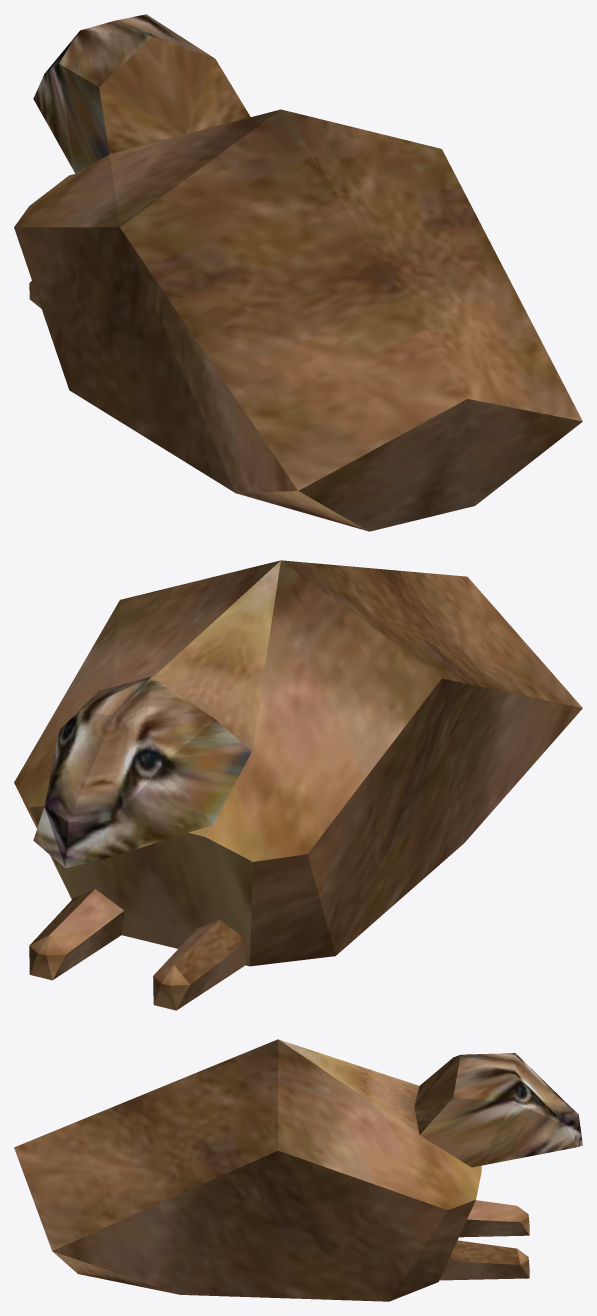
The model's file is smallFloppa.fbx.
The picture shows the model from 3 angles, top to bottom: view 1: azimuth 30°, elevation 25°; view 2: azimuth 150°, elevation 25°; view 3: azimuth 270°, elevation 25°; orthographic projection. The views are drawn at different scales.
Parts seen in each view (by area): view 1: psx floppa; view 2: psx floppa; view 3: psx floppa.
Part boxes in pixels (bbox=[...]): psx floppa: bbox=[14, 14, 582, 531]; psx floppa: bbox=[14, 560, 582, 1010]; psx floppa: bbox=[14, 1039, 582, 1301].
Size of the model in its own units: 340 by 309 by 735.
Materials: 1 (1 with a texture image).
